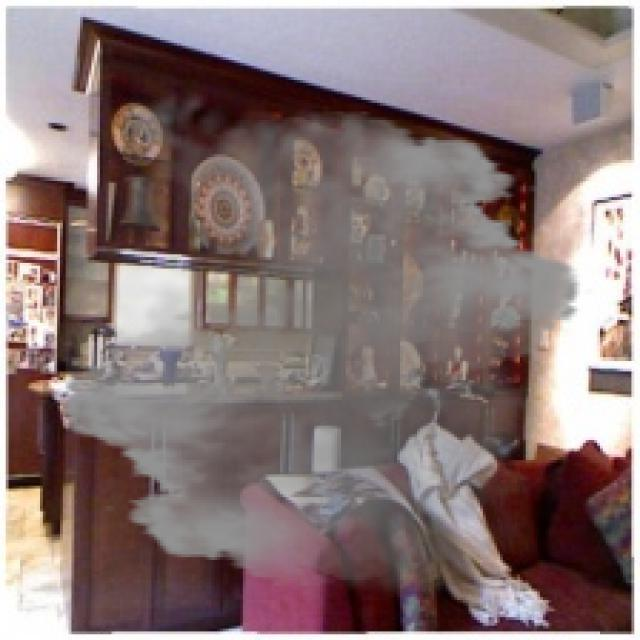Smoke: (45, 74, 598, 609)
